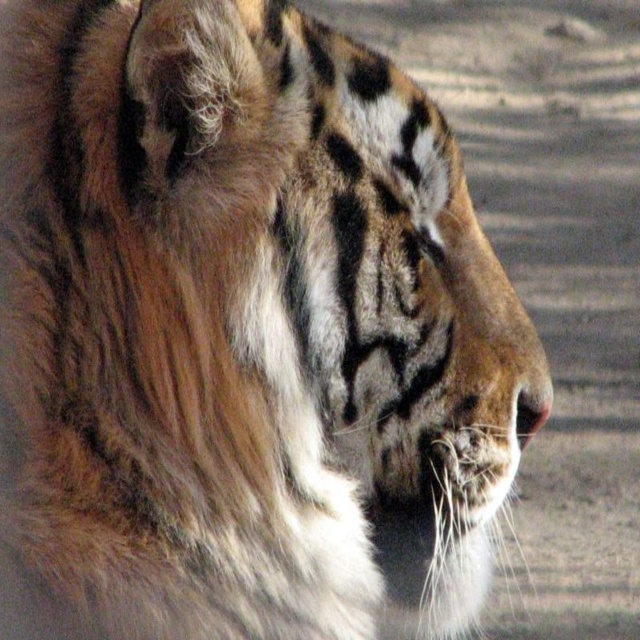Tiger: (0, 0, 554, 640)
